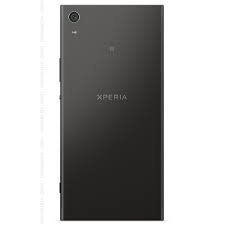sony: (57, 1, 166, 225)
